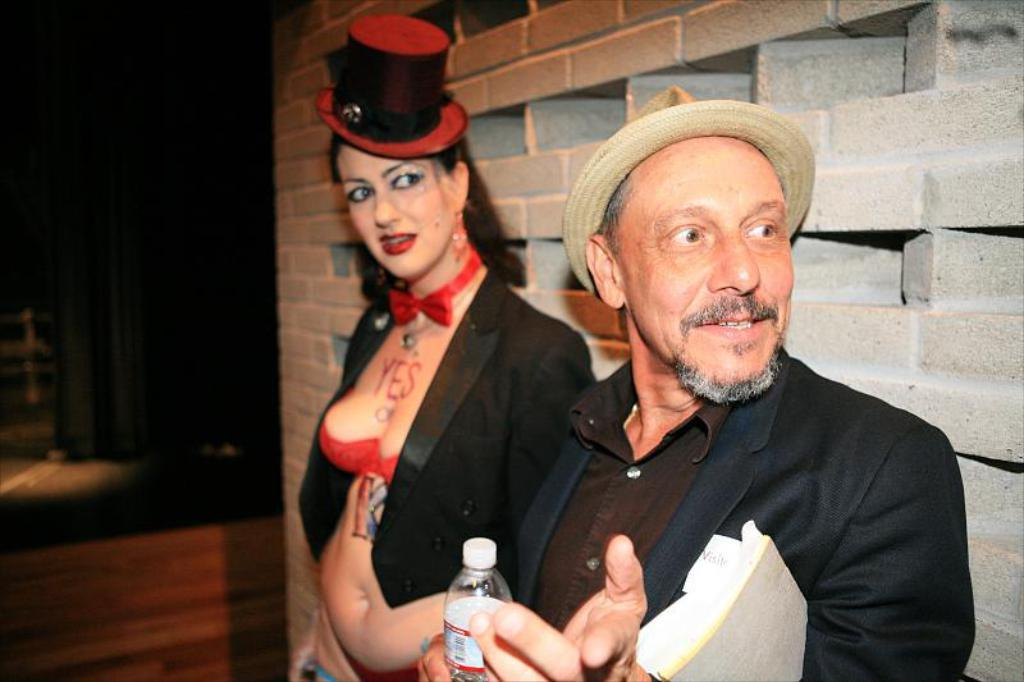Hat: (562, 83, 814, 293), (318, 29, 484, 174)
